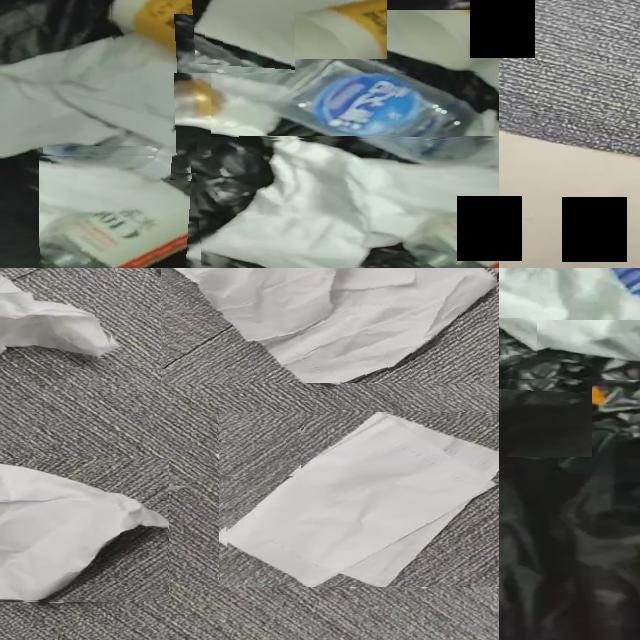bottle: (173, 10, 499, 172), (40, 157, 317, 268), (499, 338, 591, 410)
carton: (499, 131, 640, 268)
dixie_cup: (111, 0, 295, 73)
paper: (225, 414, 499, 587), (199, 139, 499, 268), (174, 268, 498, 383), (0, 33, 211, 157), (0, 466, 169, 602), (499, 268, 640, 363), (192, 0, 362, 59), (0, 274, 112, 356), (395, 73, 499, 139), (219, 427, 301, 477), (304, 415, 334, 431)
